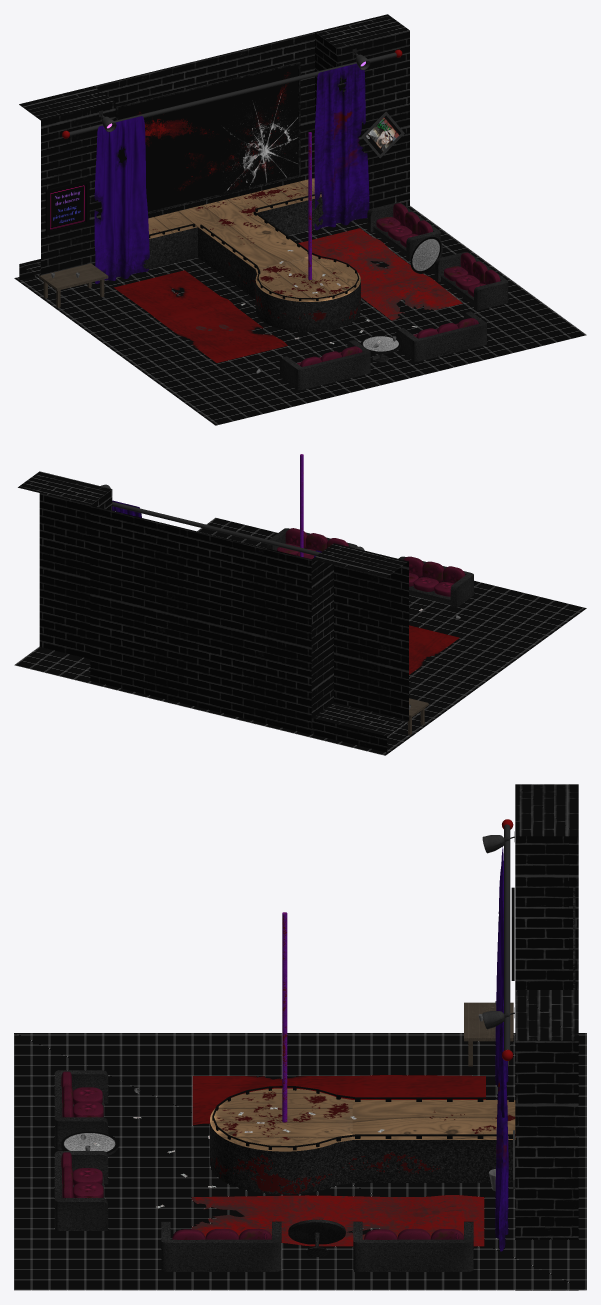
The model's file is post_apocalyptic_night_club.glb.
The picture shows the model from 3 angles, top to bottom: view 1: azimuth 30°, elevation 25°; view 2: azimuth 150°, elevation 25°; view 3: azimuth 270°, elevation 25°; orthographic projection. The views are drawn at different scales.
Visible parts, largest first — view 1: Plane.004, WALL.001, Cylinder.069, screen.001, curtain1.001, curtain2.001, carpet1.001, carpet2.001, Cube.037, Cube.038, picture/frame.006, Cube.039 (+7 smaller); view 2: WALL.001, Plane.004, carpet1.001, Cylinder.071, Cube.037, Cylinder.070; view 3: Plane.004, WALL.001, Cylinder.069, carpet2.001, carpet1.001, Cube.040, Cube.039, Cube.038, curtain2.001, Cube.037, Cylinder.071, Cylinder.122 (+4 smaller).
Boxes of the visible parts, x1,y1,x2,y2 form: Plane.004: [14, 206, 586, 425]; WALL.001: [19, 14, 409, 280]; Cylinder.069: [118, 178, 360, 332]; screen.001: [115, 62, 300, 213]; curtain1.001: [94, 116, 149, 283]; curtain2.001: [314, 63, 369, 230]; carpet1.001: [114, 270, 287, 362]; carpet2.001: [298, 228, 462, 320]; Cube.037: [280, 339, 370, 390]; Cube.038: [396, 311, 486, 361]; picture/frame.006: [45, 179, 89, 235]; Cube.039: [435, 252, 508, 310]; WALL.001: [18, 471, 408, 752]; Plane.004: [14, 517, 586, 755]; carpet1.001: [409, 625, 459, 674]; Cylinder.071: [112, 501, 320, 555]; Cube.037: [398, 556, 473, 607]; Cylinder.070: [300, 454, 303, 557]; Plane.004: [14, 1033, 586, 1290]; WALL.001: [515, 784, 578, 1290]; Cylinder.069: [210, 1086, 515, 1194]; carpet2.001: [191, 1195, 484, 1246]; carpet1.001: [192, 1075, 485, 1125]; Cube.040: [353, 1221, 473, 1271]; Cube.039: [161, 1221, 281, 1271]; Cube.038: [54, 1151, 108, 1230]; curtain2.001: [495, 997, 508, 1251]; Cube.037: [54, 1070, 108, 1150]; Cylinder.071: [504, 824, 510, 1050]; Cylinder.122: [288, 1219, 345, 1256].
Size of the model in its own units: 71.14 by 32.4 by 66.86.
Materials: 25 (23 with a texture image).
